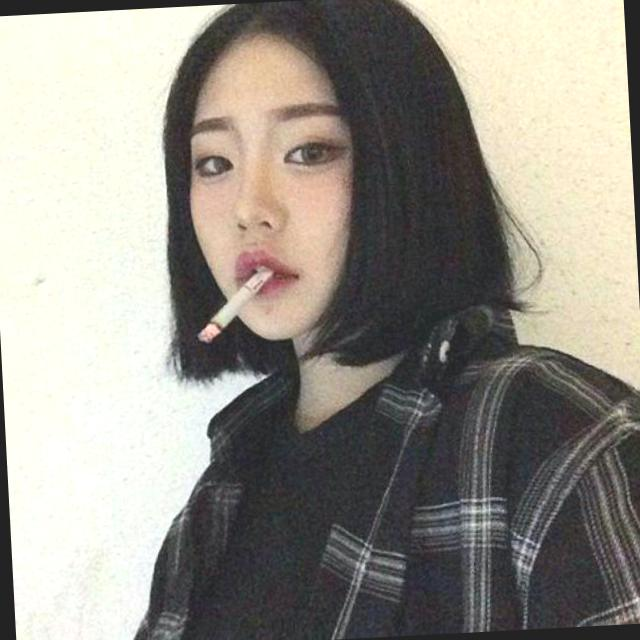smoke: (168, 256, 292, 360)
